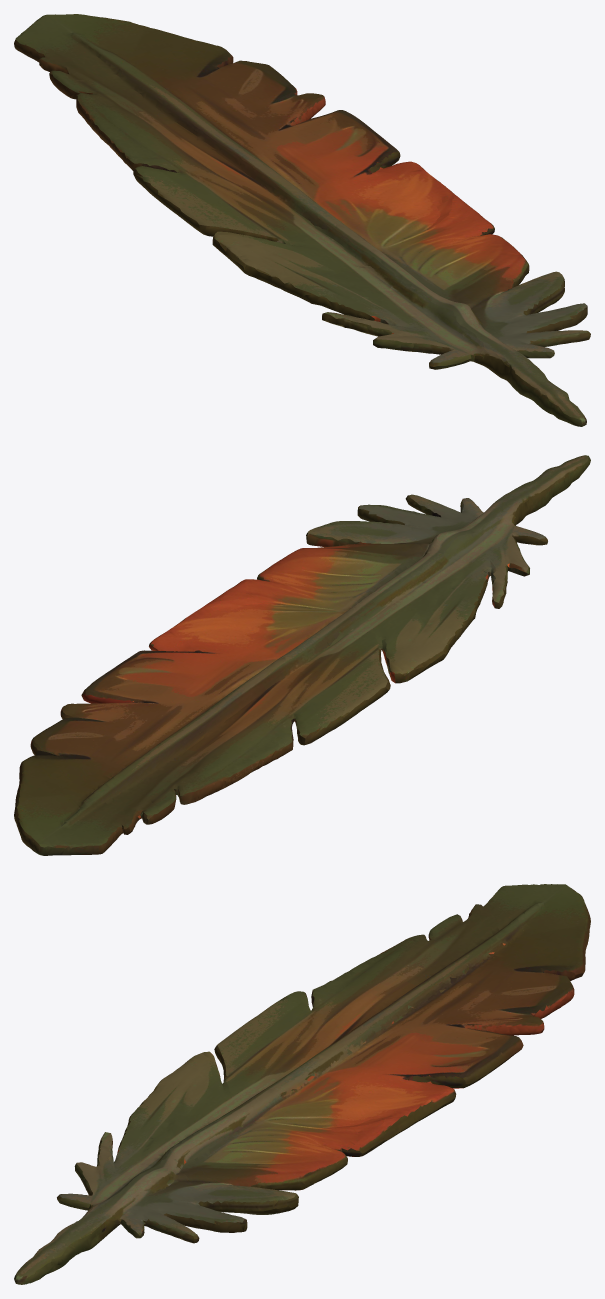
File: item_fire_feather.glb
The picture shows the model from 3 angles, top to bottom: view 1: azimuth 30°, elevation 25°; view 2: azimuth 150°, elevation 25°; view 3: azimuth 330°, elevation 25°; orthographic projection.
Parts seen in each view (by area): view 1: item_fire_feather; view 2: item_fire_feather; view 3: item_fire_feather.
Part boxes in pixels (<box>): item_fire_feather: <box>14,14,590,426</box>; item_fire_feather: <box>14,455,590,855</box>; item_fire_feather: <box>14,884,590,1284</box>.
Bounding box in the file's own units: 0.075 × 0.0102 × 0.3.
1 material, 1 textured.
